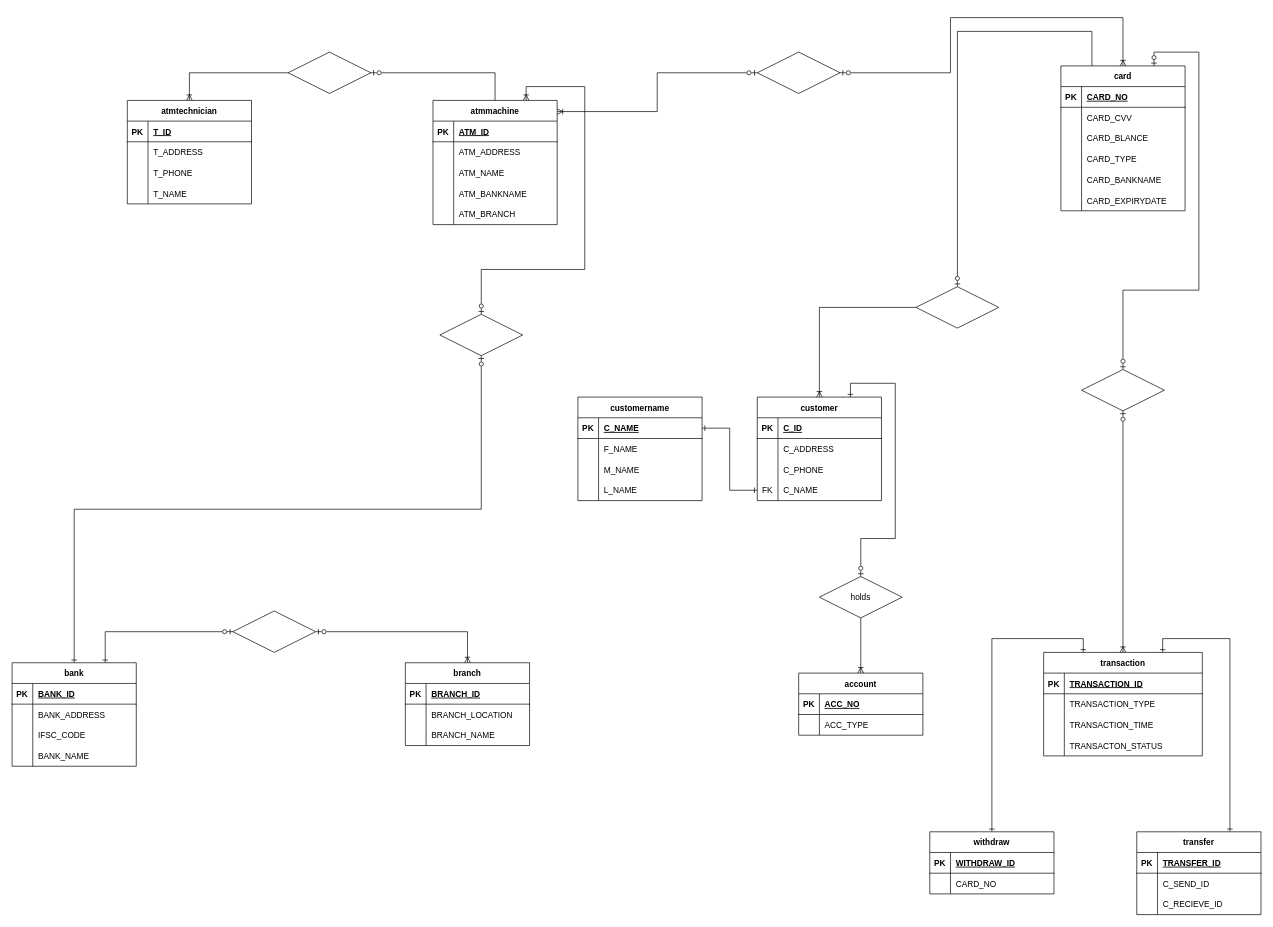
This 1273x927 diagram has some shape labels left out. The centre of each missing label's shape, as x and y in pixels:
"belongs" goes at [481,335].
"has" goes at [274,631].
"inserted" goes at [798,72].
"maintains" goes at [329,72].
"performs" goes at [1122,390].
"uses" goes at [957,307].
